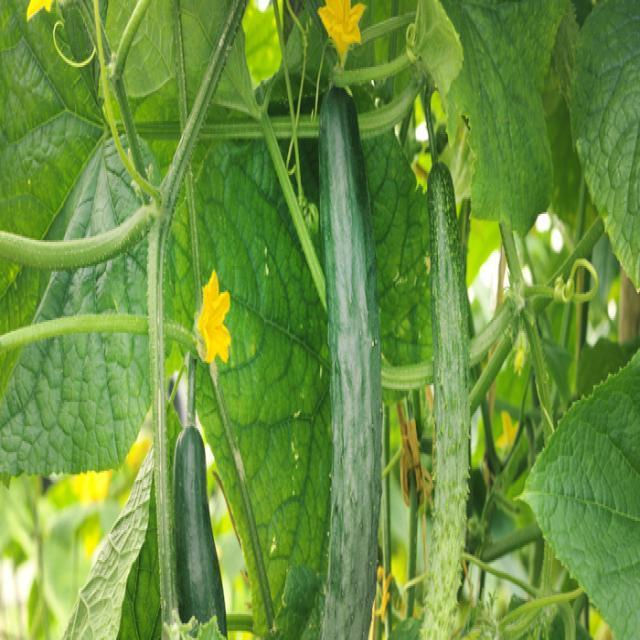cucumber: (303, 74, 391, 640), (412, 147, 486, 640), (169, 388, 230, 640)
